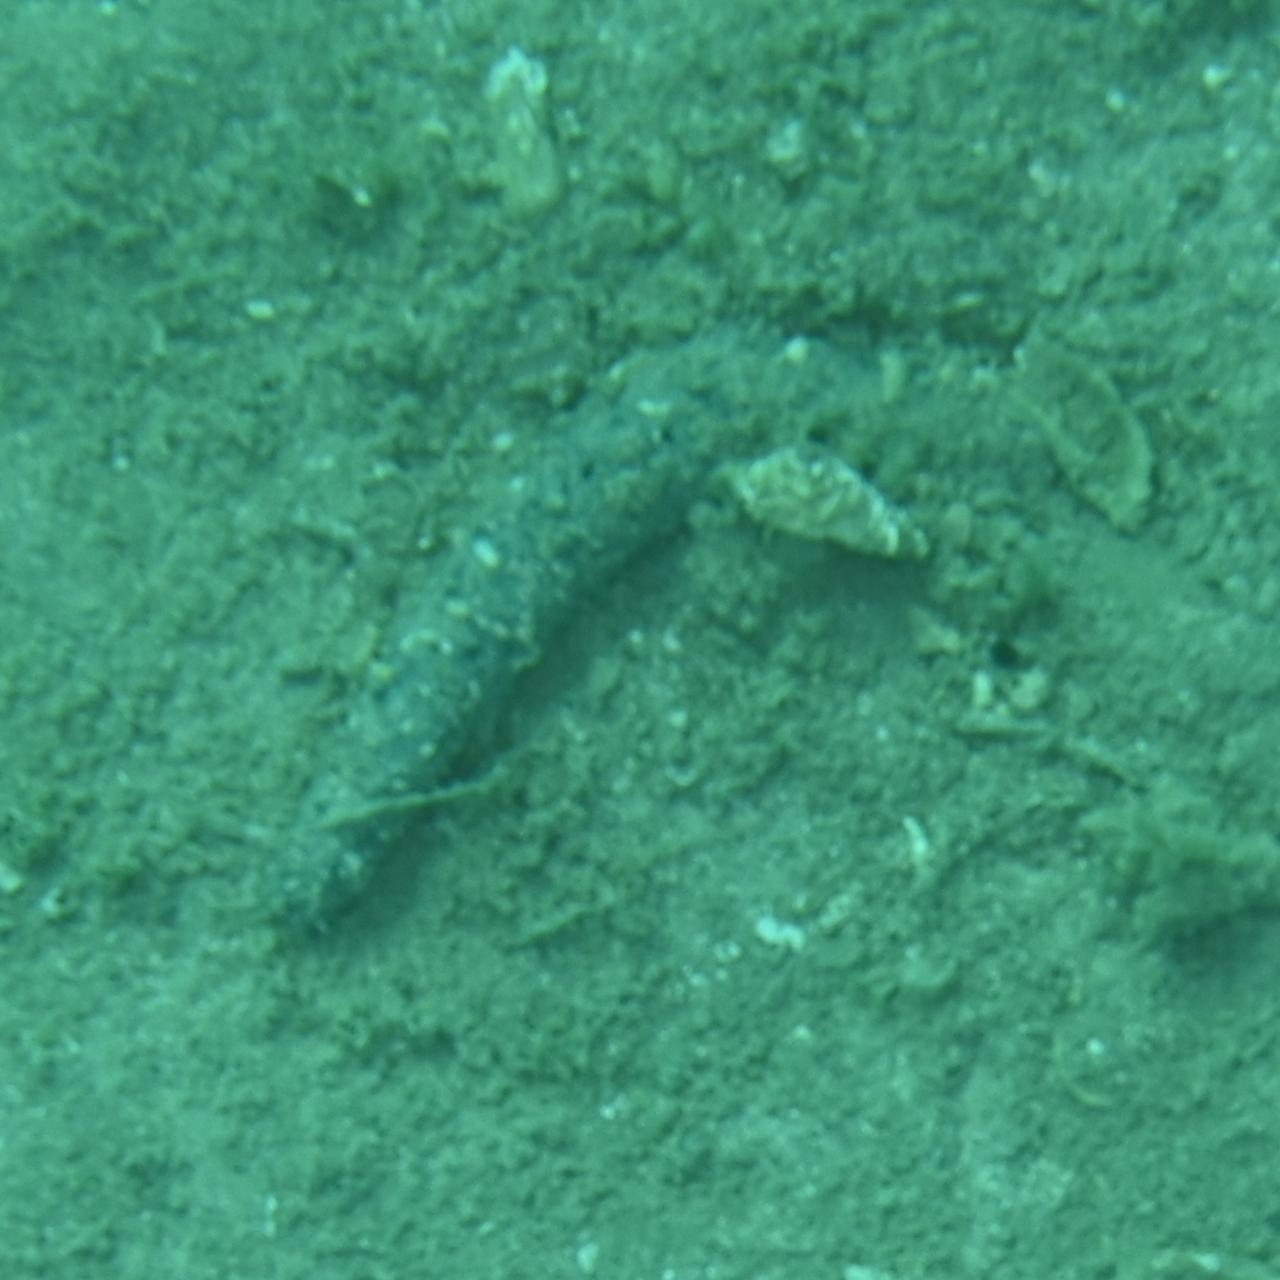Holothuria tubulosa: (224, 307, 1056, 973)
